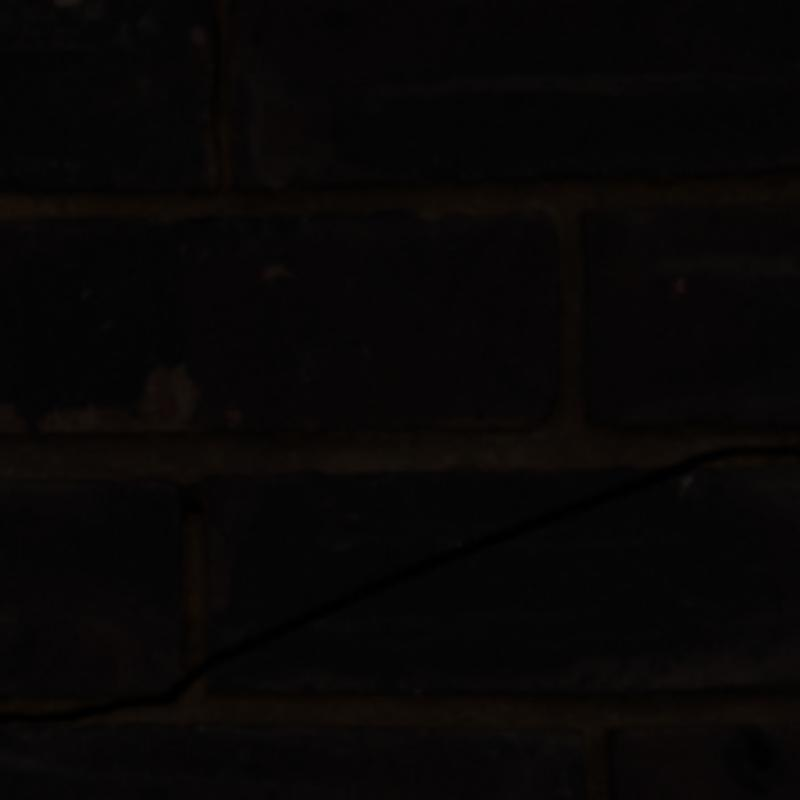pothole: (0, 446, 796, 721)
